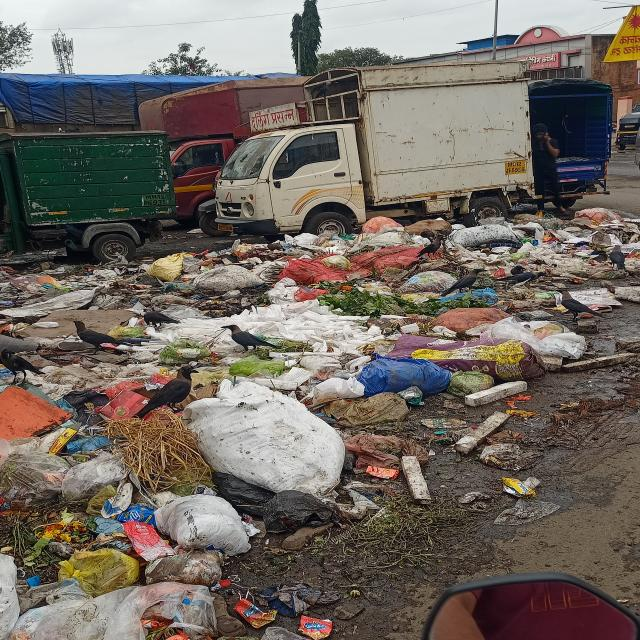garbage: (10, 223, 640, 407), (2, 406, 472, 640)
